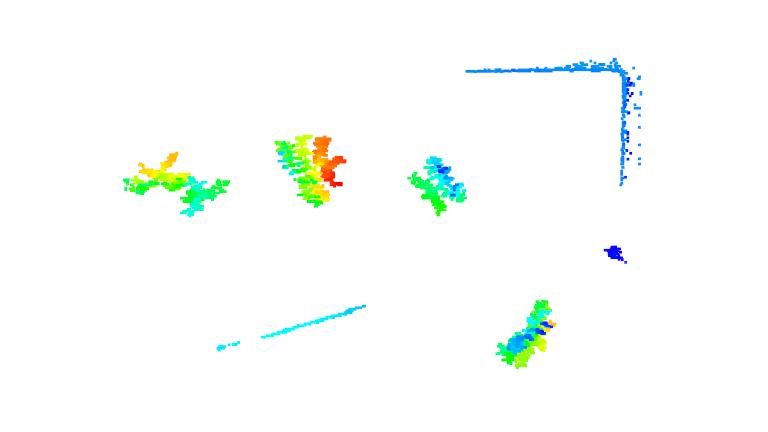chickpea: (273, 132, 350, 209), (490, 298, 562, 371), (404, 152, 469, 213), (112, 149, 191, 193), (177, 173, 235, 216)
